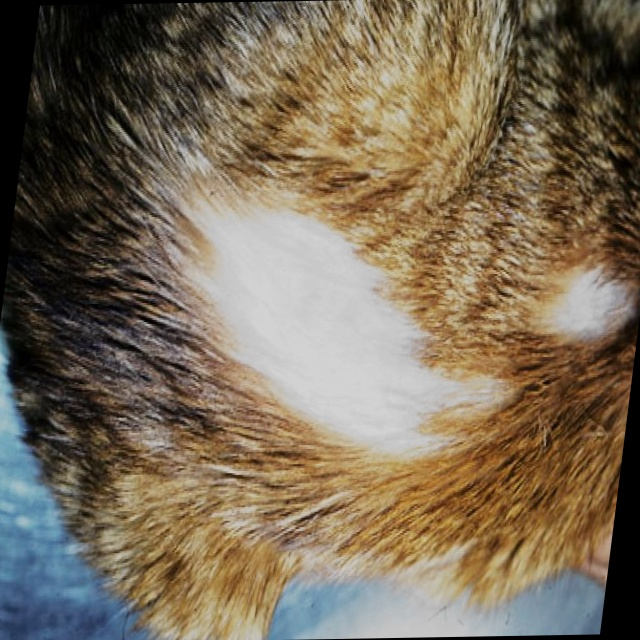hairloss: (189, 199, 485, 449), (569, 280, 634, 339)
